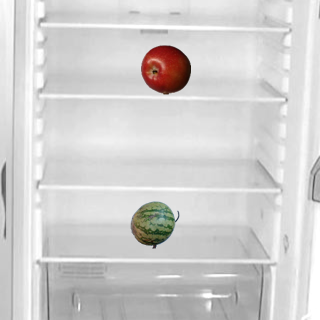Apple Braeburn: (140, 44, 190, 94)
Watermelon: (129, 199, 179, 249)
